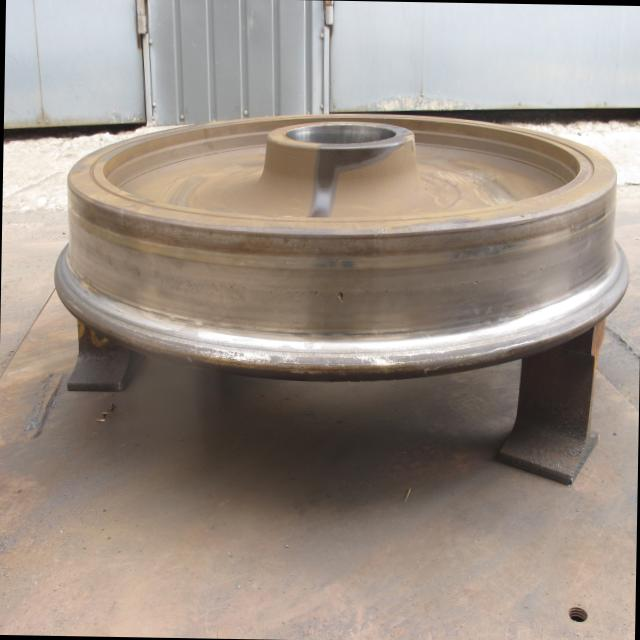Blue hole: (469, 281, 479, 287), (339, 293, 344, 303), (461, 283, 465, 288)
Peeling: (438, 285, 447, 291), (310, 291, 319, 296), (385, 292, 388, 294)
